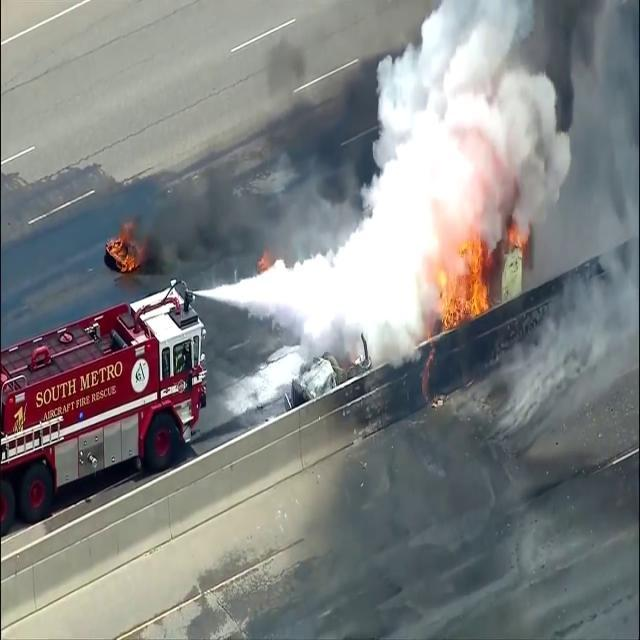Fire: (430, 224, 490, 334)
Smoke: (356, 1, 637, 274)
